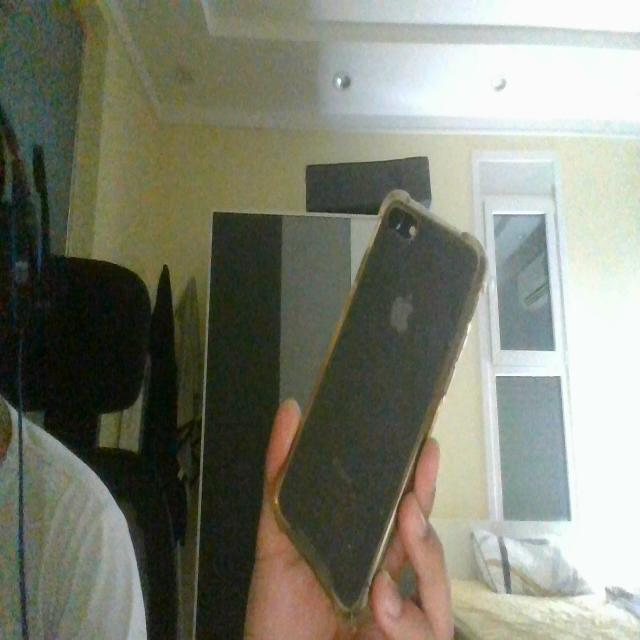Phone: (264, 185, 490, 620)
